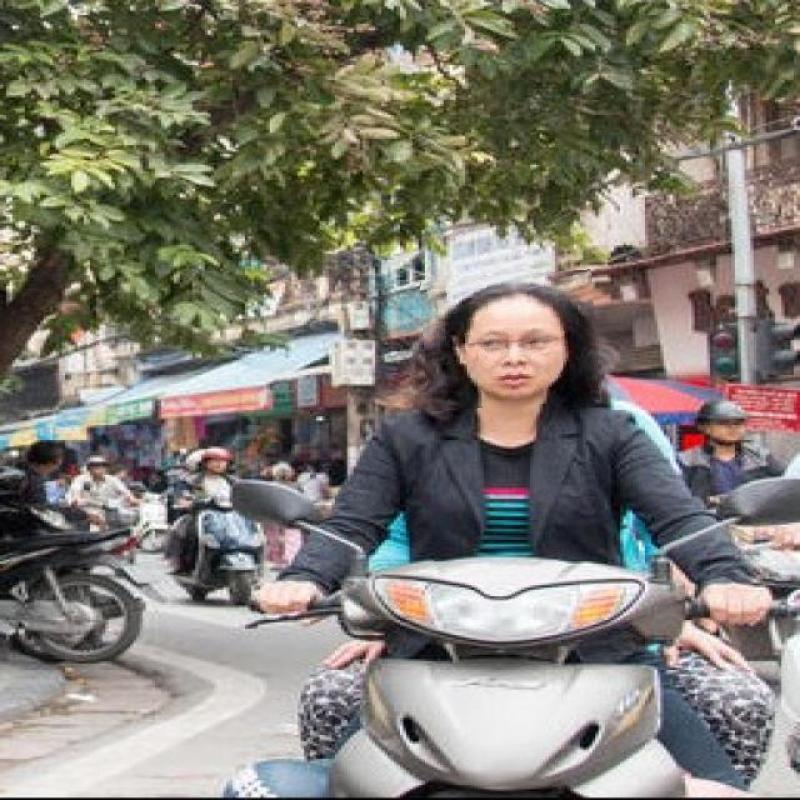nohelmet: (422, 272, 598, 409)
